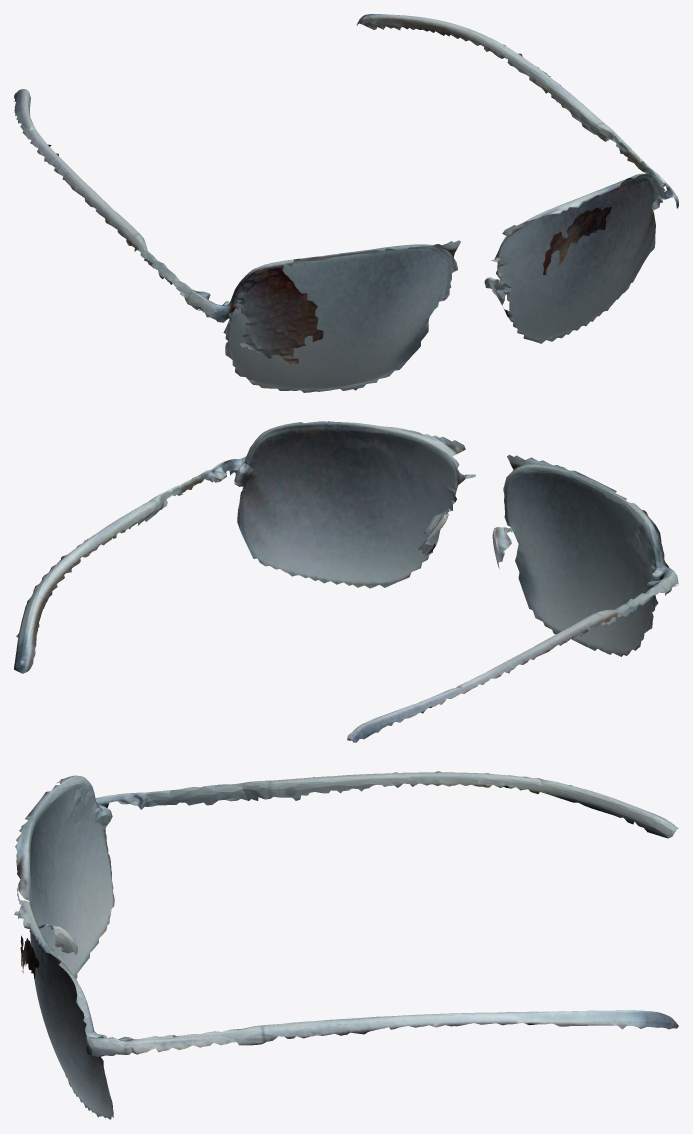
The model's file is scan_align.obj.
The picture shows the model from 3 angles, top to bottom: view 1: azimuth 30°, elevation 25°; view 2: azimuth 150°, elevation 25°; view 3: azimuth 270°, elevation 25°; orthographic projection. The views are drawn at different scales.
Bounding box in the file's own units: 0.1476 × 0.0454 × 0.1605.
1 material, 1 textured.
